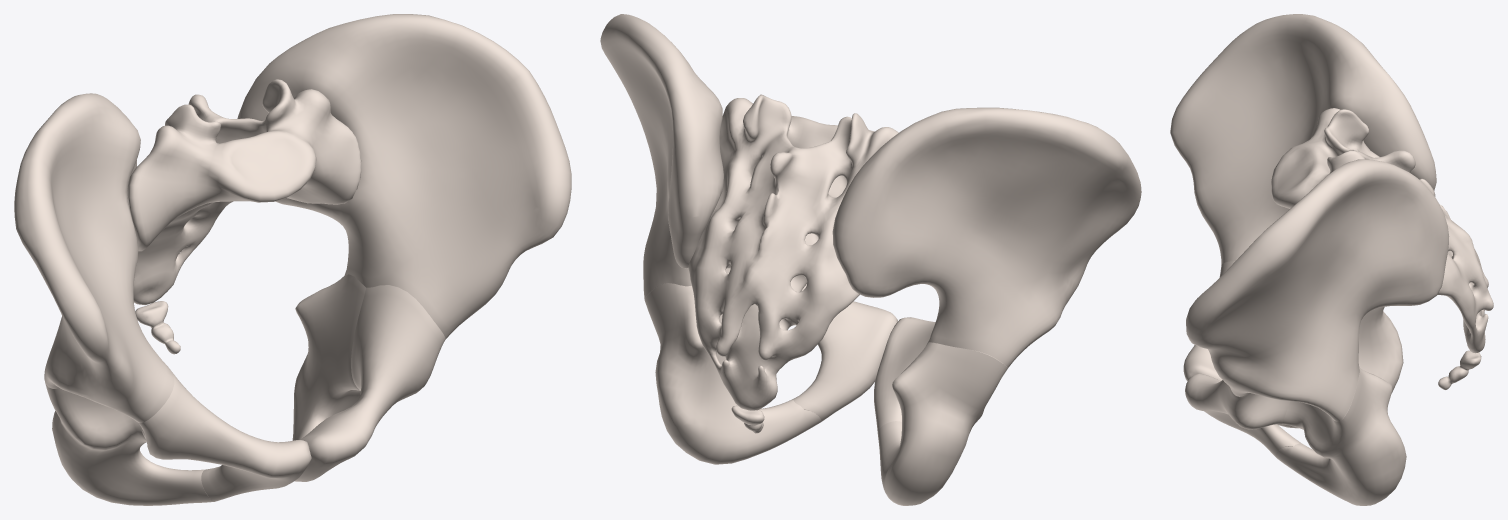
Rendered from VH_M_Pelvis.glb.
The picture shows the model from 3 angles, left to right: view 1: azimuth 30°, elevation 25°; view 2: azimuth 150°, elevation 25°; view 3: azimuth 270°, elevation 25°; orthographic projection. The views are drawn at different scales.
Parts seen in each view (by area): view 1: VH_M_ilium_compact_bone_L, VH_M_ilium_compact_bone_R, VH_M_sacrum, VH_M_pubis_compact_bone_L, VH_M_ischium_compact_bone_R, VH_M_pubis_compact_bone_R, VH_M_ischium_compact_bone_L, VH_M_coccyx; view 2: VH_M_ilium_compact_bone_R, VH_M_sacrum, VH_M_ilium_compact_bone_L, VH_M_ischium_compact_bone_L, VH_M_ischium_compact_bone_R, VH_M_pubis_compact_bone_L, VH_M_pubis_compact_bone_R; view 3: VH_M_ilium_compact_bone_L, VH_M_ilium_compact_bone_R, VH_M_ischium_compact_bone_L, VH_M_sacrum, VH_M_pubis_compact_bone_L, VH_M_ischium_compact_bone_R, VH_M_pubis_compact_bone_R, VH_M_coccyx.
Boxes of the visible parts, left/top/right/bottom form: VH_M_ilium_compact_bone_L: left=237, top=14, right=571, bottom=338; VH_M_ilium_compact_bone_R: left=14, top=93, right=174, bottom=422; VH_M_sacrum: left=127, top=79, right=361, bottom=305; VH_M_pubis_compact_bone_L: left=295, top=285, right=445, bottom=481; VH_M_ischium_compact_bone_R: left=45, top=384, right=214, bottom=505; VH_M_pubis_compact_bone_R: left=139, top=369, right=311, bottom=501; VH_M_ischium_compact_bone_L: left=292, top=274, right=365, bottom=440; VH_M_coccyx: left=135, top=301, right=180, bottom=354; VH_M_ilium_compact_bone_R: left=832, top=107, right=1141, bottom=367; VH_M_sacrum: left=688, top=94, right=898, bottom=410; VH_M_ilium_compact_bone_L: left=600, top=14, right=723, bottom=299; VH_M_ischium_compact_bone_L: left=644, top=268, right=821, bottom=464; VH_M_ischium_compact_bone_R: left=878, top=342, right=1007, bottom=505; VH_M_pubis_compact_bone_L: left=793, top=284, right=897, bottom=421; VH_M_pubis_compact_bone_R: left=874, top=317, right=935, bottom=433; VH_M_ilium_compact_bone_L: left=1186, top=159, right=1449, bottom=421; VH_M_ilium_compact_bone_R: left=1170, top=14, right=1436, bottom=264; VH_M_ischium_compact_bone_L: left=1276, top=367, right=1406, bottom=505; VH_M_sacrum: left=1271, top=108, right=1493, bottom=353; VH_M_pubis_compact_bone_L: left=1185, top=373, right=1299, bottom=457; VH_M_ischium_compact_bone_R: left=1289, top=307, right=1403, bottom=428; VH_M_pubis_compact_bone_R: left=1183, top=261, right=1291, bottom=427; VH_M_coccyx: left=1438, top=350, right=1481, bottom=389.
Bounding box in the file's own units: 0.2835 × 0.2185 × 0.1728.
